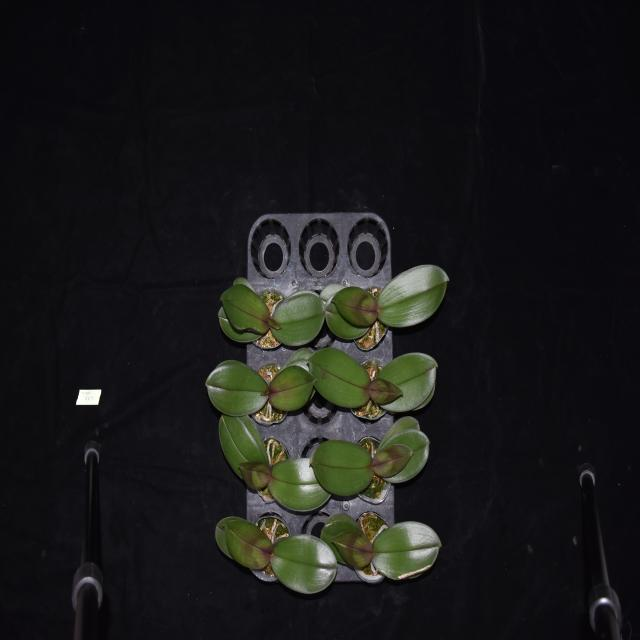leaf: (377, 264, 450, 326), (272, 532, 338, 596), (372, 521, 442, 581), (306, 349, 371, 408), (309, 438, 372, 496), (205, 359, 269, 416), (379, 352, 439, 412), (218, 415, 270, 481), (270, 457, 331, 513), (215, 515, 271, 574), (376, 428, 430, 484), (270, 291, 325, 342), (220, 283, 270, 334), (269, 366, 318, 412), (326, 293, 370, 340), (331, 285, 377, 327), (218, 306, 262, 343), (376, 416, 420, 452), (332, 529, 372, 567), (320, 512, 367, 544), (371, 444, 414, 478), (274, 347, 314, 376), (368, 375, 403, 407), (237, 461, 270, 492), (320, 280, 346, 305), (234, 278, 258, 297), (268, 318, 282, 330)
